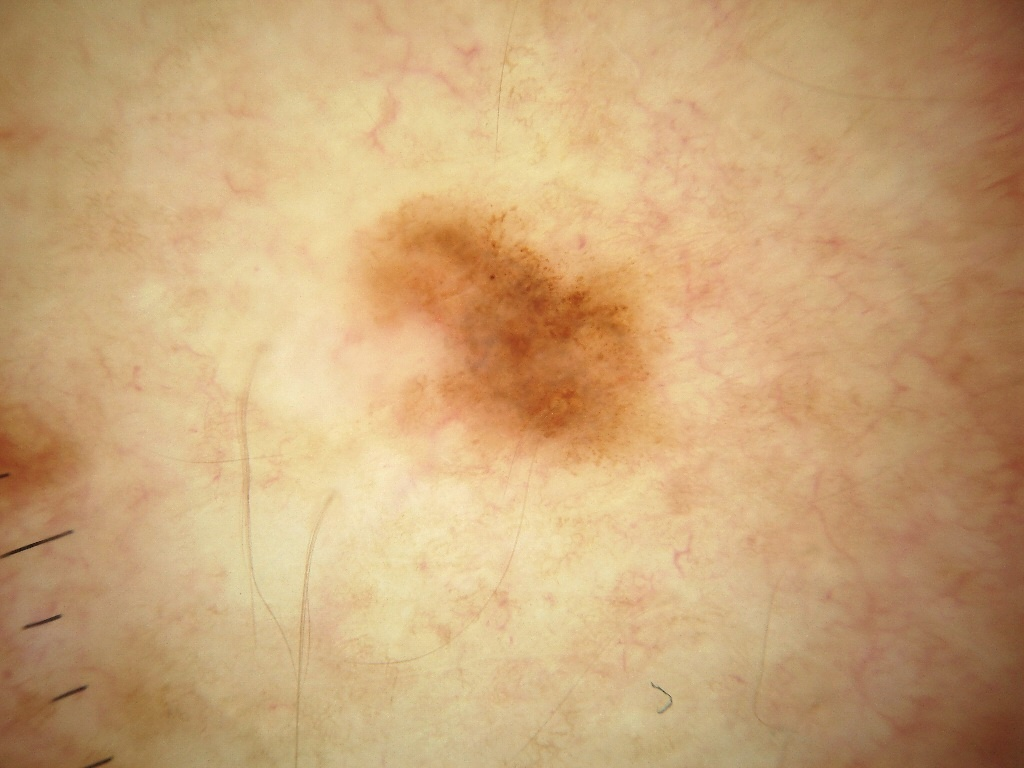Detected Lesion: (345, 182, 688, 473)
